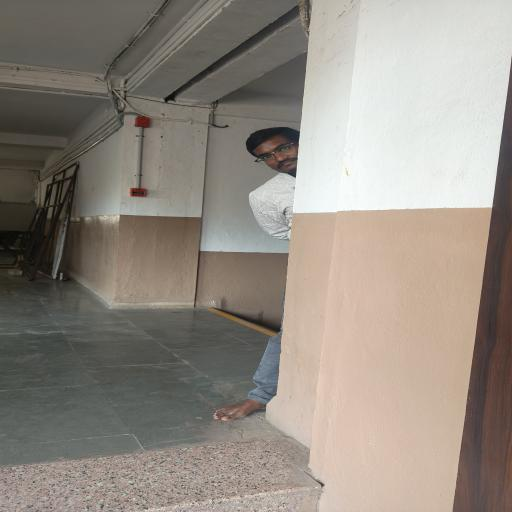survivor: (213, 126, 301, 422)
